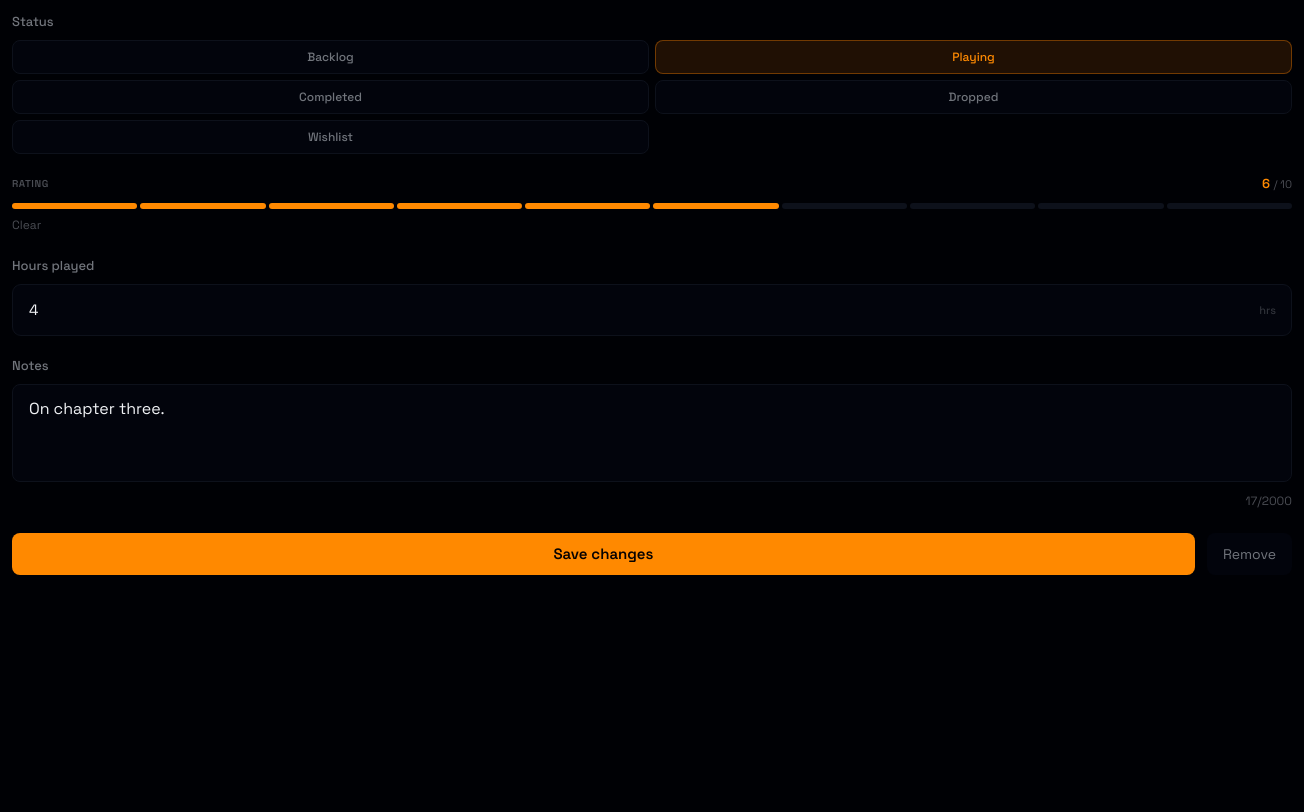
Test: BacklogEntryForm › shows a confirmation instead of removing on the first Remove click
Step 1. Click the button "Remove" → (1249, 554), box [1207, 532, 1292, 575]
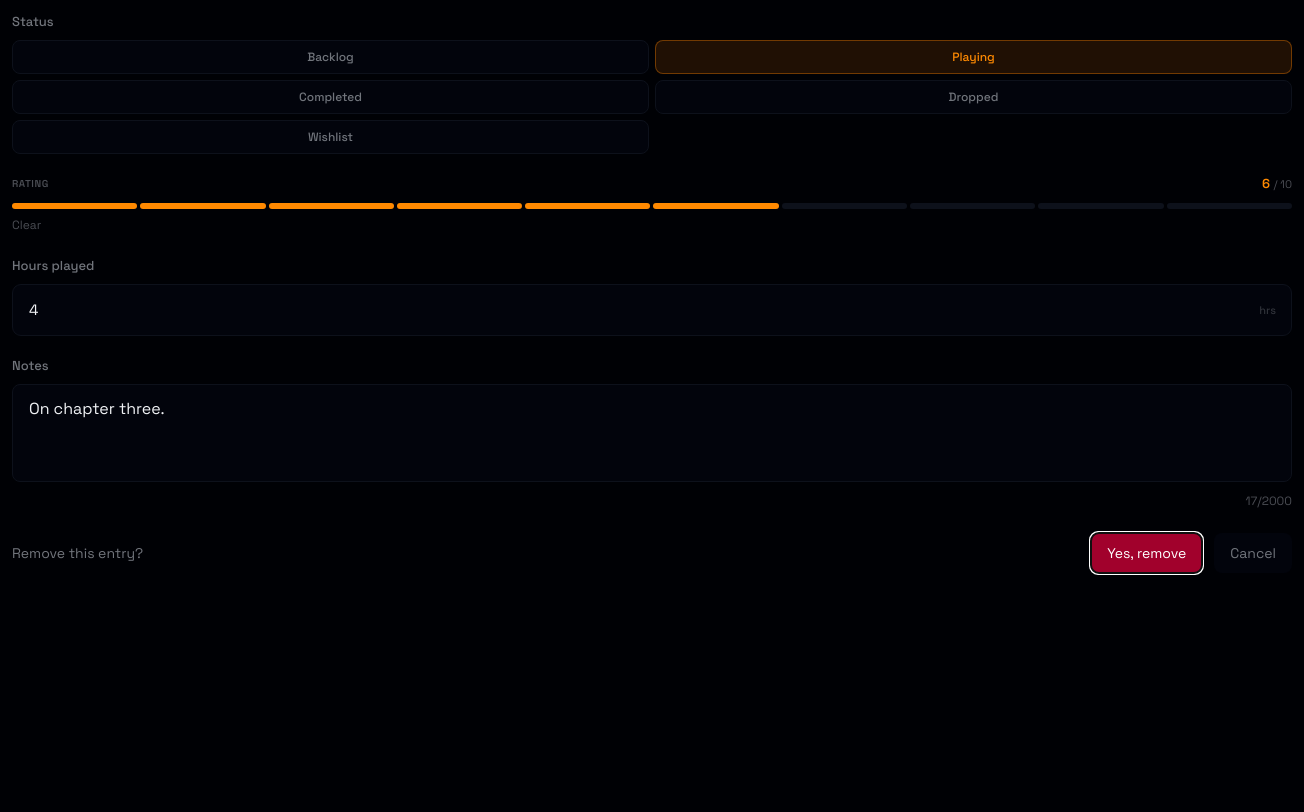
Result: the text "Remove this entry?" is shown at [12, 544, 143, 562]
